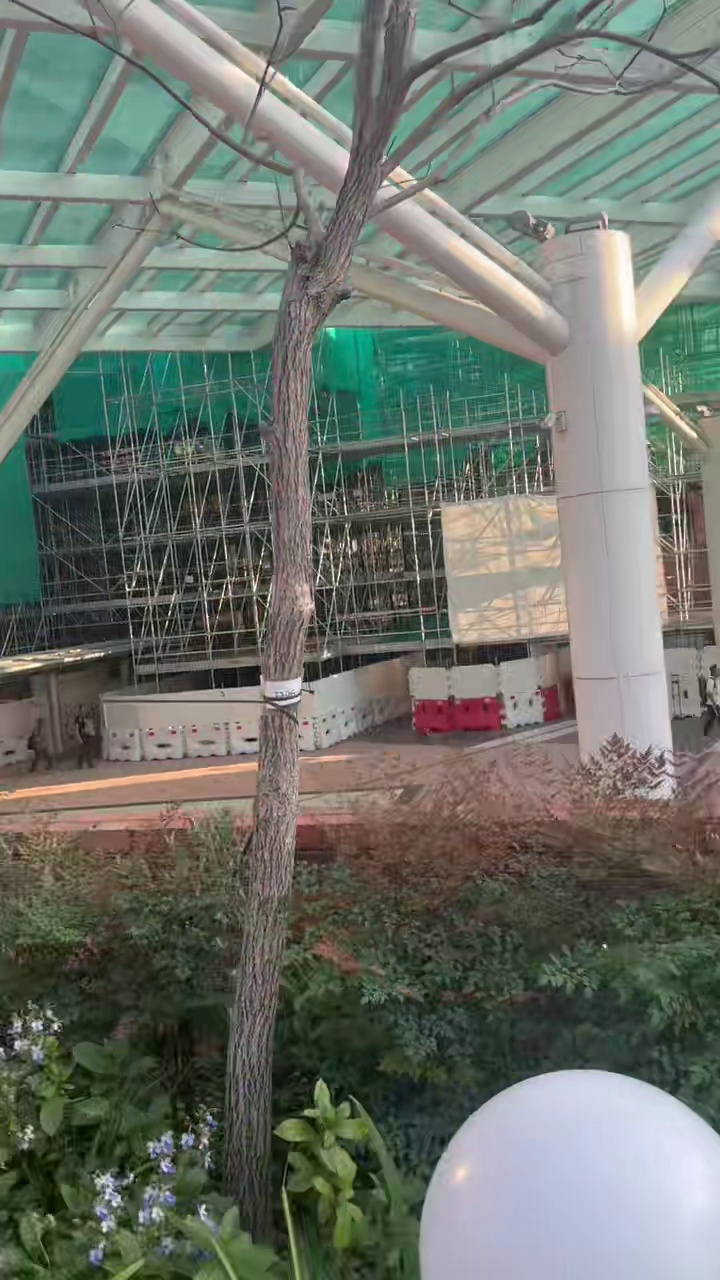Tabebuia chrysantha: (226, 0, 601, 1241)
